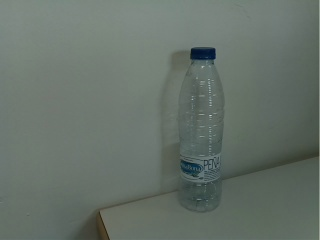botella plastico: (176, 44, 226, 216)
